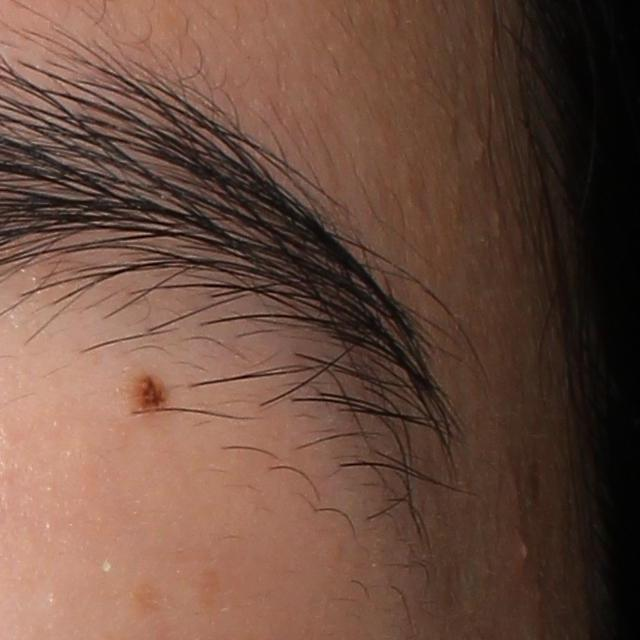melasma: (194, 565, 225, 627), (130, 578, 169, 622)
nevus: (124, 370, 172, 416)
